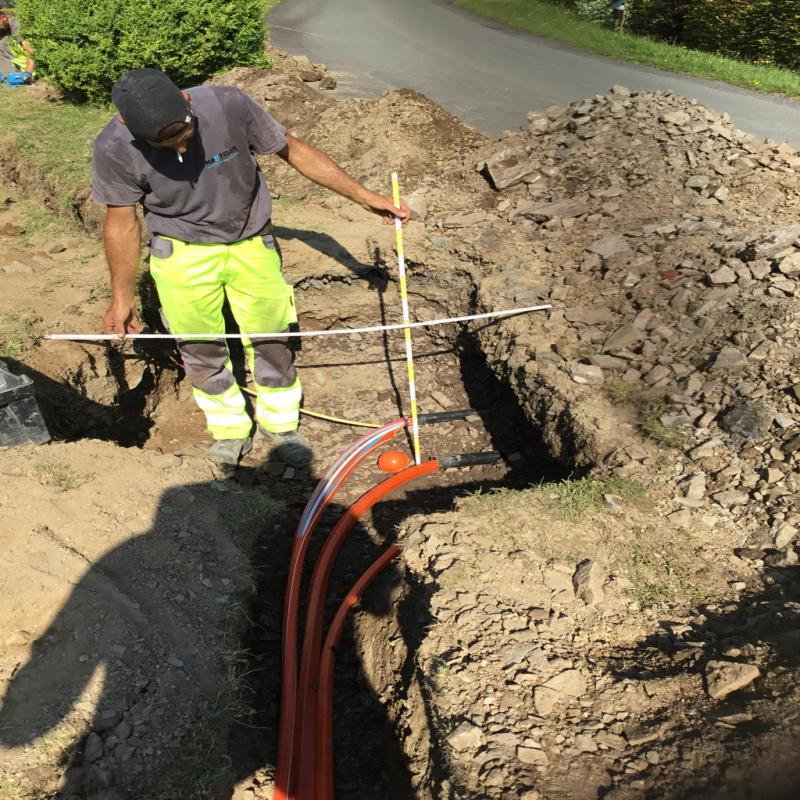Kugelmarker: (378, 450, 407, 472)
Orang-Speednetrohrchen: (291, 461, 438, 799), (274, 431, 385, 800), (316, 546, 400, 799)
